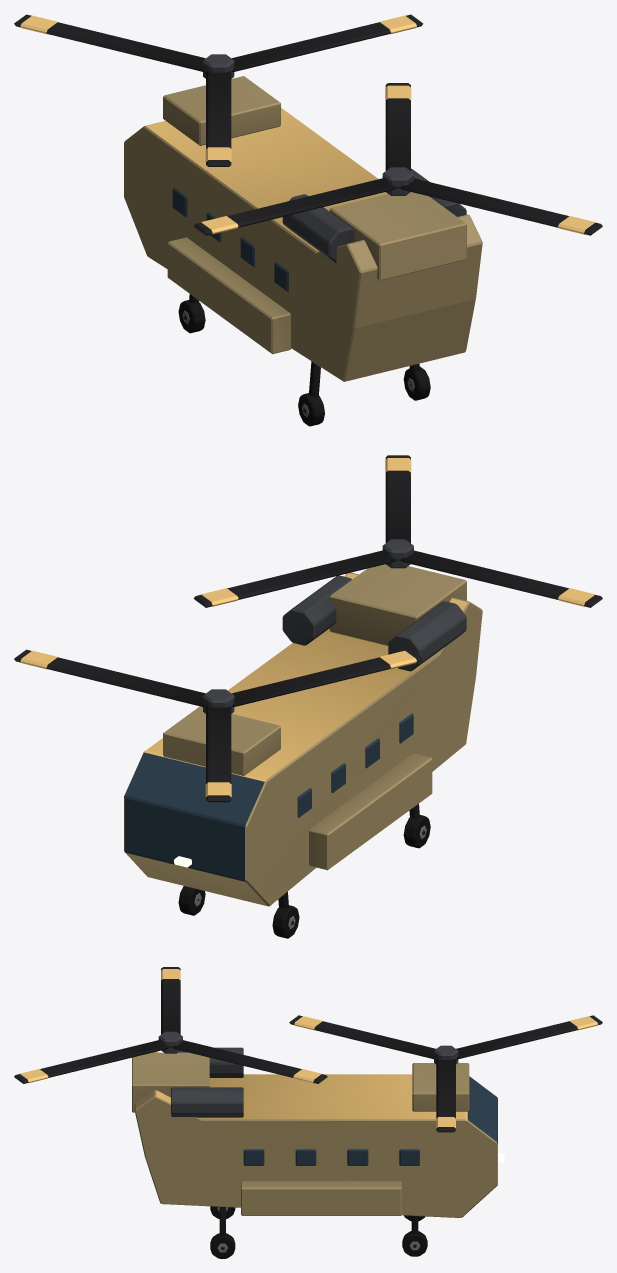
Rendered from helicopter_transport.glb.
3 renders of one model, top to bottom at view 1: azimuth 30°, elevation 25°; view 2: azimuth 150°, elevation 25°; view 3: azimuth 270°, elevation 25°, orthographic. The views are drawn at different scales.
Visible parts, largest first — view 1: helicopter_transport, Rotor2, Rotor; view 2: helicopter_transport, Rotor, Rotor2; view 3: helicopter_transport, Rotor, Rotor2.
Part boxes in pixels (x1,y1,x2,y2): helicopter_transport: (124,76,482,426); Rotor2: (193,83,602,235); Rotor: (14,14,423,166); helicopter_transport: (124,564,482,938); Rotor: (14,649,422,802); Rotor2: (193,455,602,607); helicopter_transport: (132,1047,504,1258); Rotor: (289,1015,602,1132); Rotor2: (14,967,327,1083).
Bounding box in the file's own units: 1.36 × 0.8607 × 2.27.
